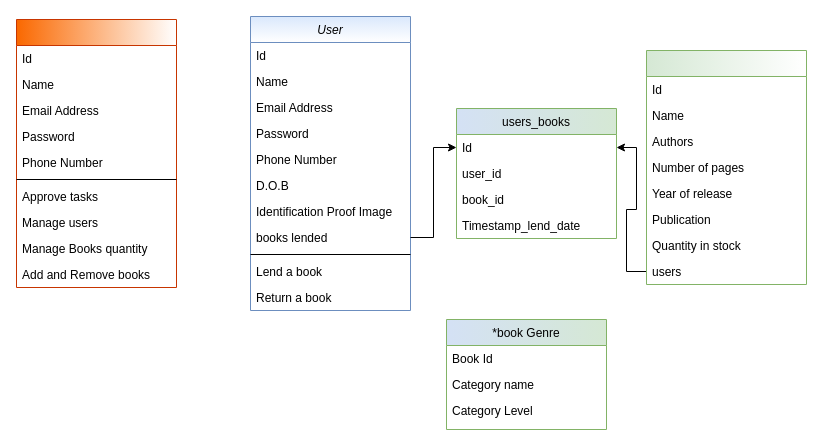
Image size: 823x446. Some labels were removed from this diagram. Each missing label, with the box of its shape:
Admin: (16, 18, 176, 288)
Book: (646, 50, 806, 284)
